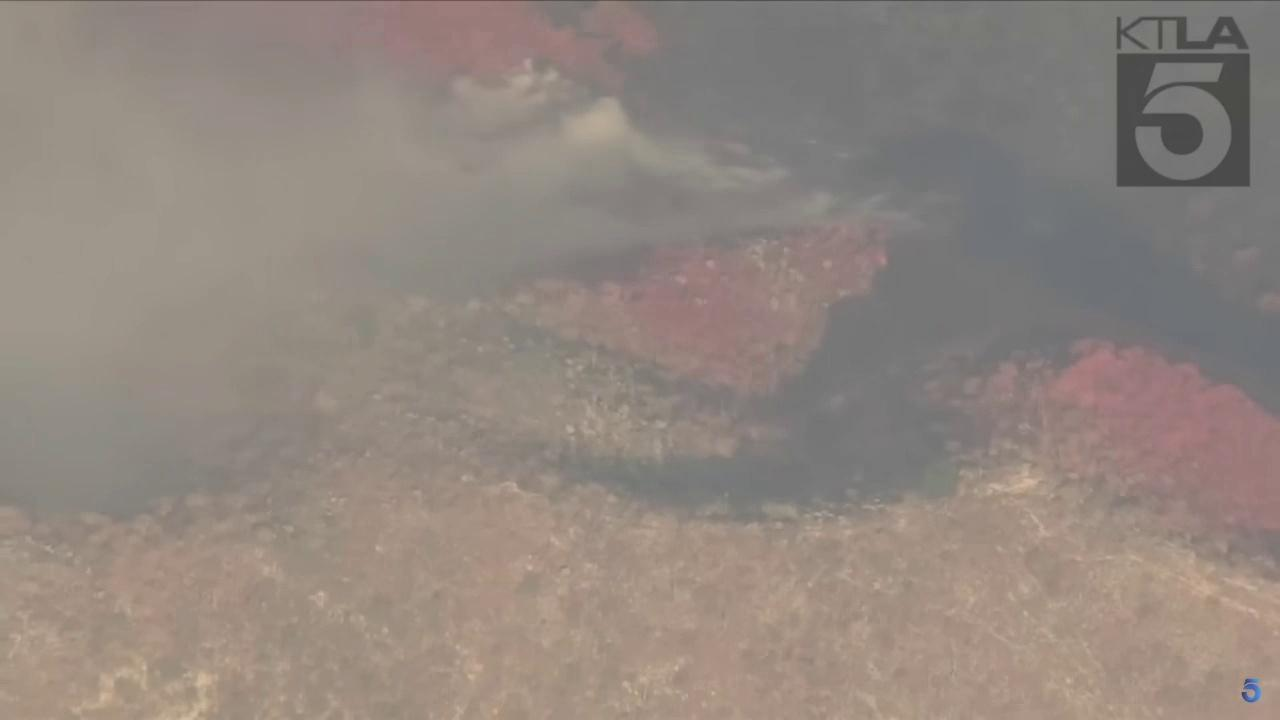smoke: (0, 0, 930, 521)
